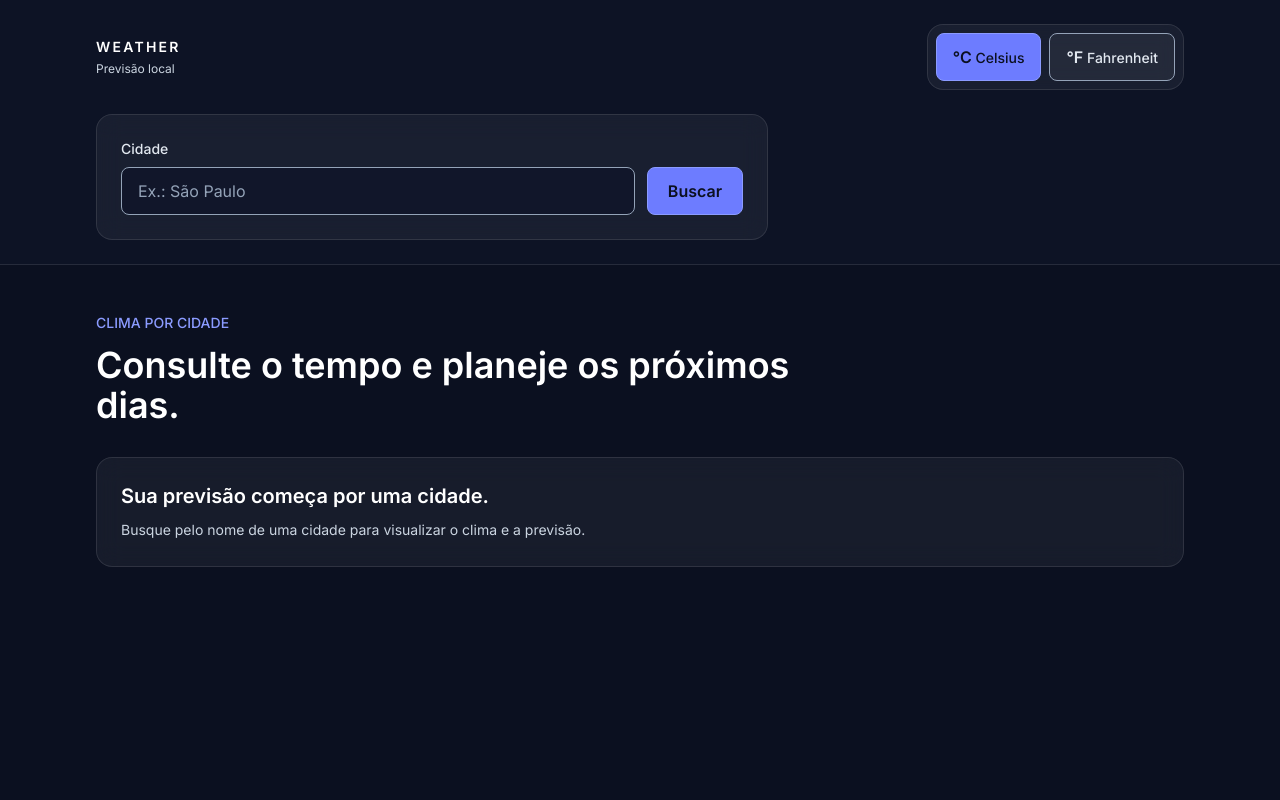
Test: App with useWeather › shows the service error and retries weather without repeating geocoding
This screenshot has width=1280, height=800.
Type "Recife" into the search field. click: (378, 191)
box: top-left (121, 167), bottom-right (635, 215)
Then press Enter
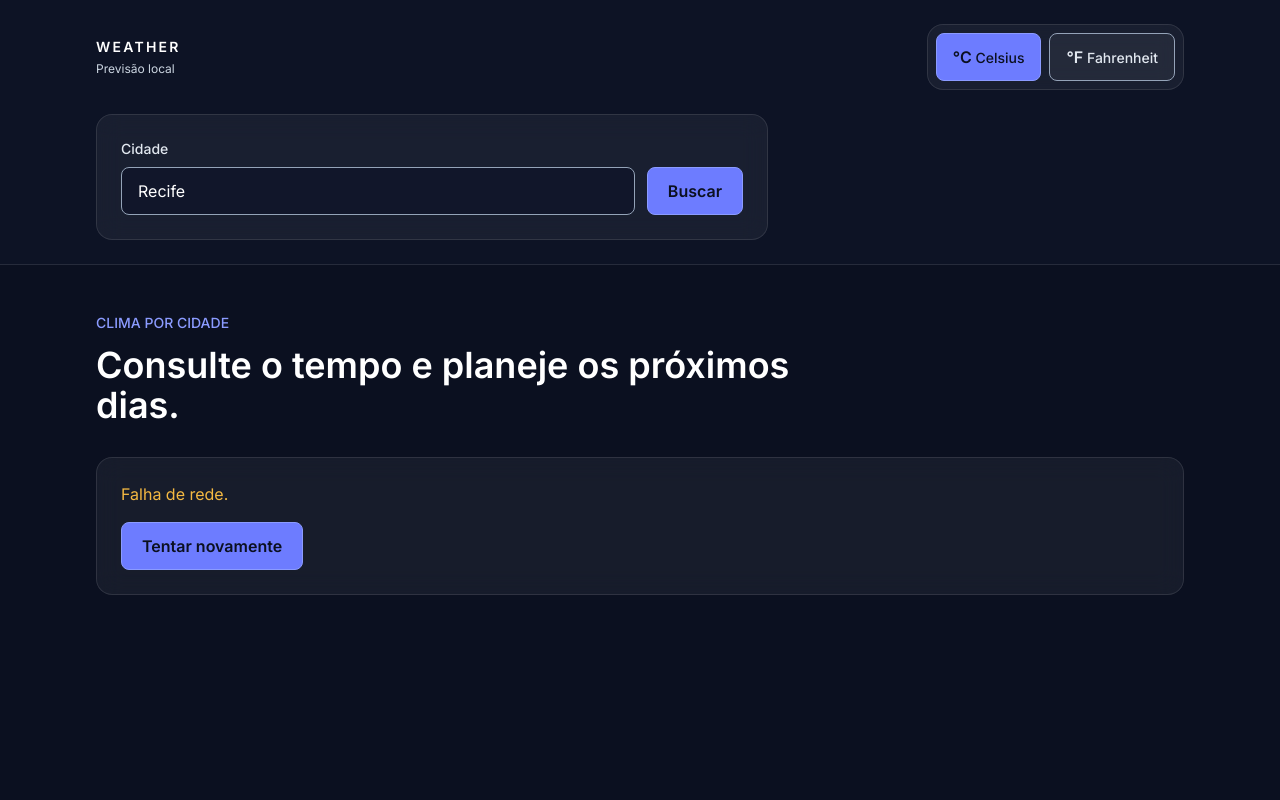
Now the message reads "Falha de rede.", box top-left (121, 484), bottom-right (228, 504)
Click the button "Tentar novamente". click: (212, 546)
box: top-left (121, 522), bottom-right (303, 570)
(page scrolled)
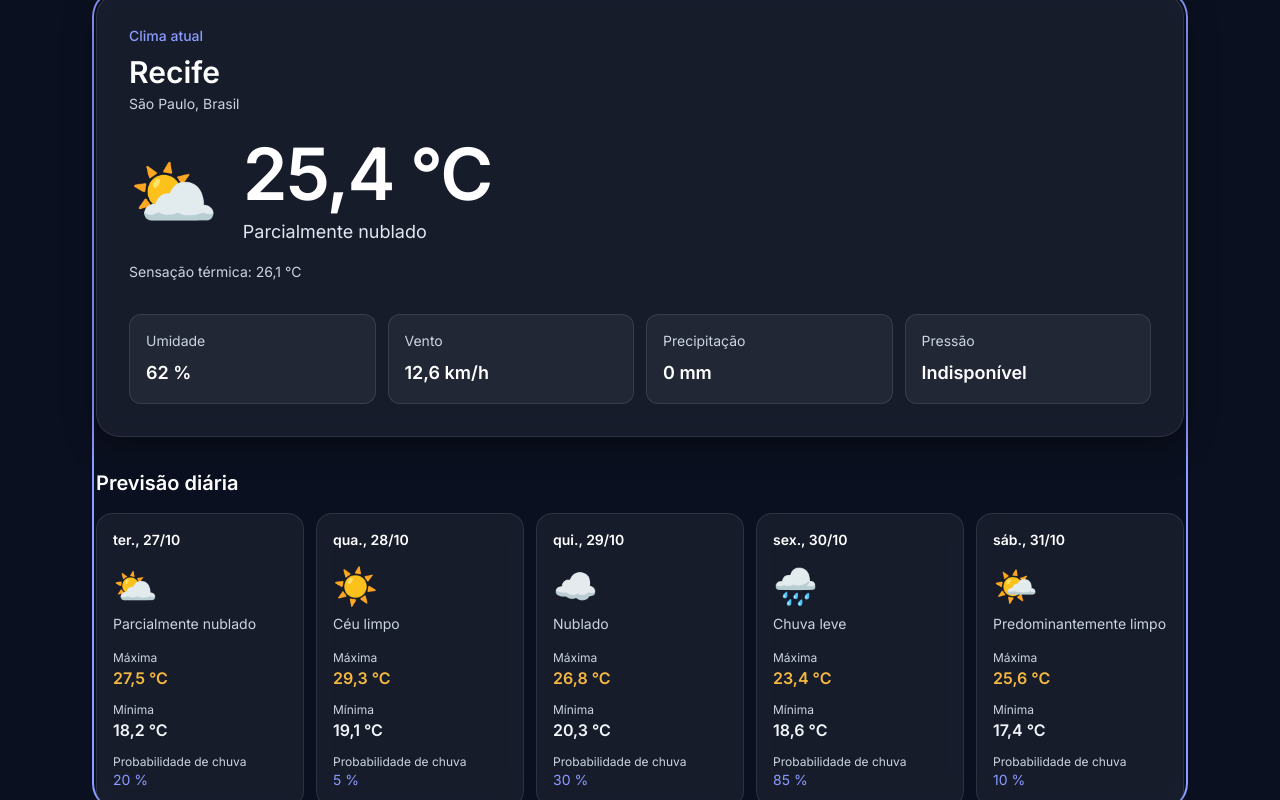
Now the heading "Recife" is shown, box top-left (129, 54), bottom-right (220, 90)
Now the message "Falha de rede." is gone
